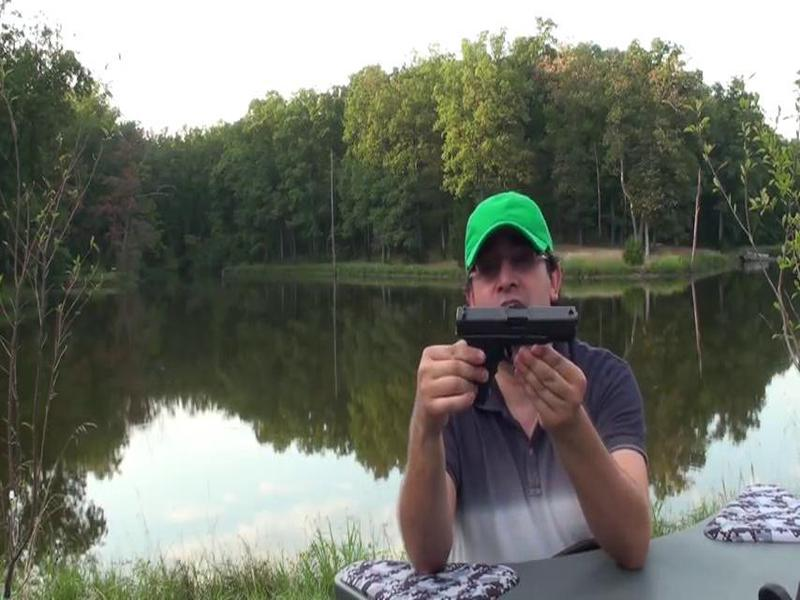Pistola: (456, 297, 594, 403)
